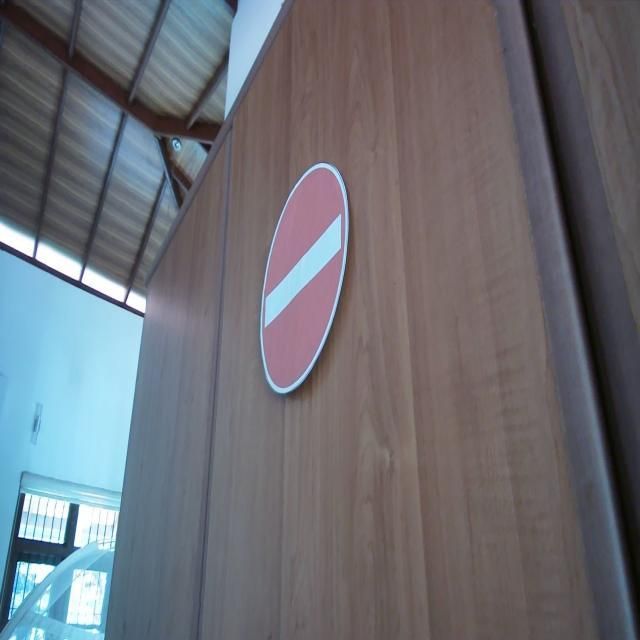no_entry: (258, 160, 351, 398)
